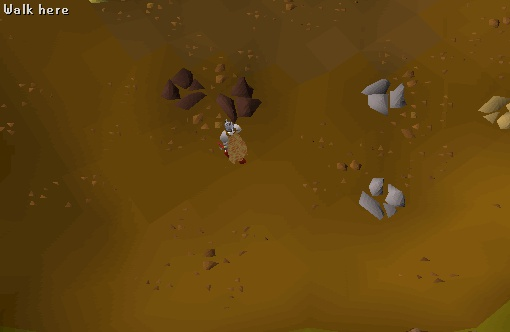iron: (212, 75, 269, 135), (153, 63, 211, 115)
tin: (349, 165, 411, 231), (352, 63, 414, 129)
